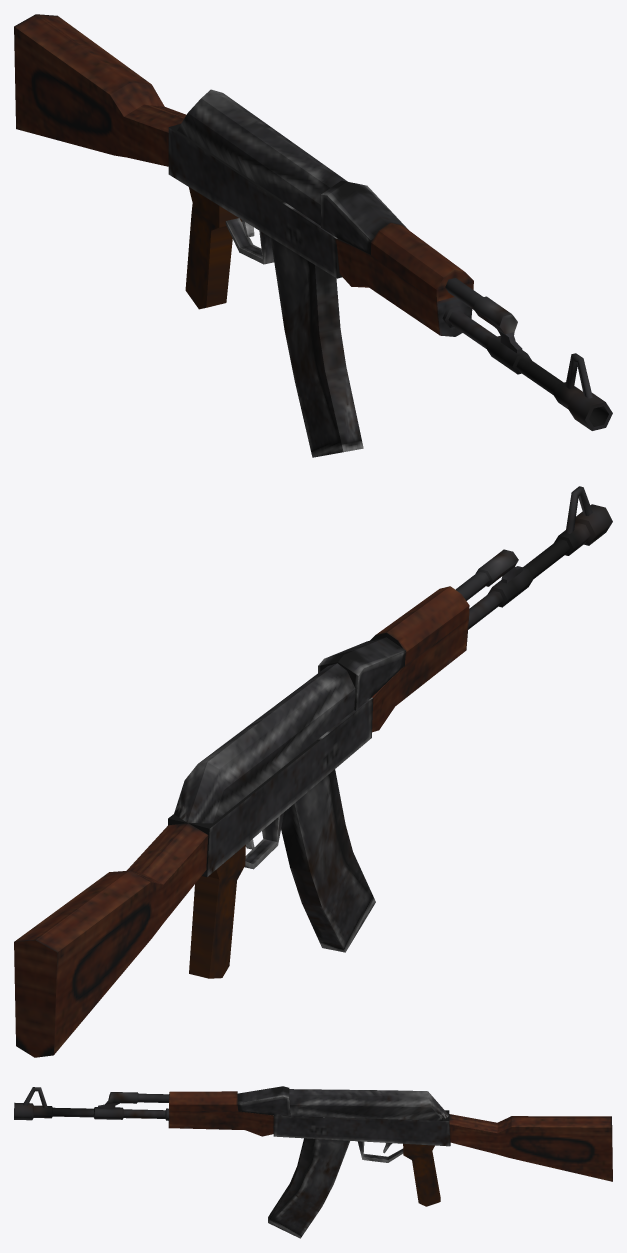
The picture shows the model from 3 angles, top to bottom: view 1: azimuth 30°, elevation 25°; view 2: azimuth 150°, elevation 25°; view 3: azimuth 270°, elevation 25°; orthographic projection. The views are drawn at different scales.
Visible parts, largest first — view 1: Ak47; view 2: Ak47; view 3: Ak47.
Boxes of the visible parts, box(x1,y1,x2,y2) form: Ak47: box(14, 14, 612, 457); Ak47: box(14, 486, 612, 1057); Ak47: box(14, 1086, 612, 1238).
Bounding box in the file's own units: 6.2 × 38.56 × 139.
1 material, 1 textured.
